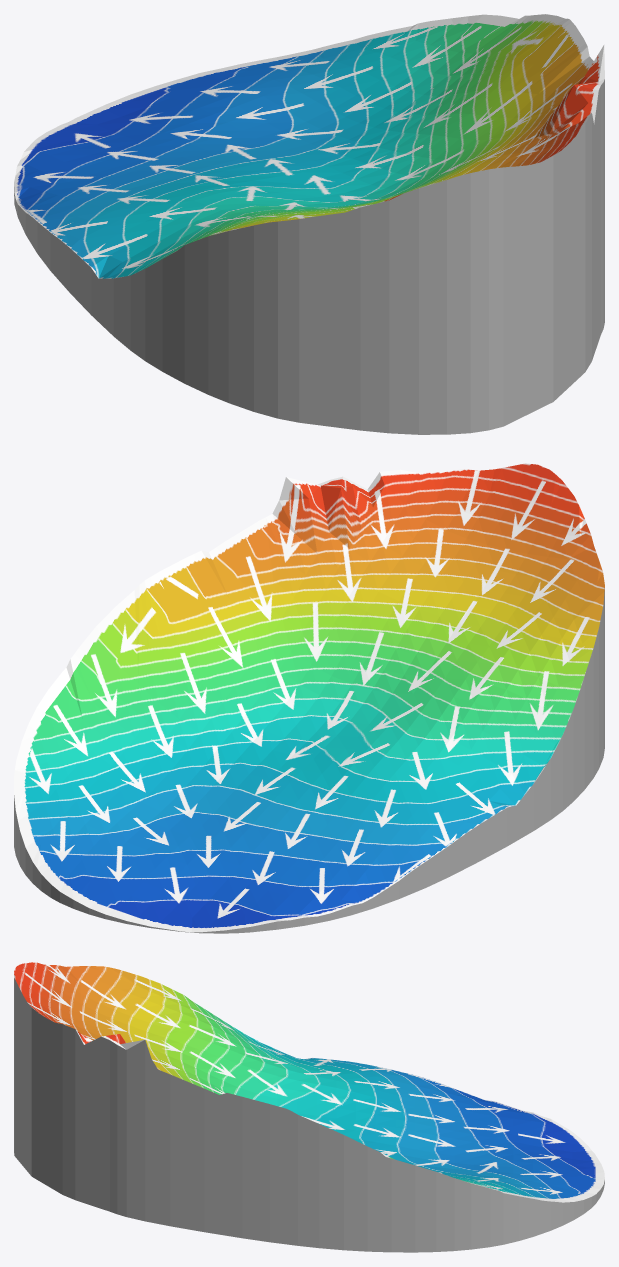
3 views of the same model, one above another, from view 1: azimuth 30°, elevation 25°; view 2: azimuth 150°, elevation 25°; view 3: azimuth 270°, elevation 25° (orthographic). The views are drawn at different scales.
Size of the model in its own units: 3.51 by 1.81 by 5.32.
2 materials, 1 textured.
